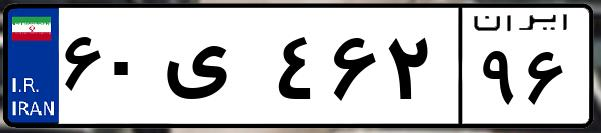0: (110, 28, 158, 98)
2: (385, 28, 445, 110)
4: (270, 28, 330, 110)
6: (330, 28, 385, 110), (57, 26, 110, 100), (525, 38, 570, 115)
9: (475, 38, 525, 113)
ی: (158, 20, 270, 120)
